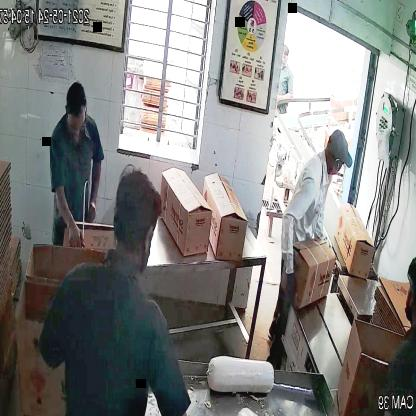goggles: (64, 113, 89, 136)
